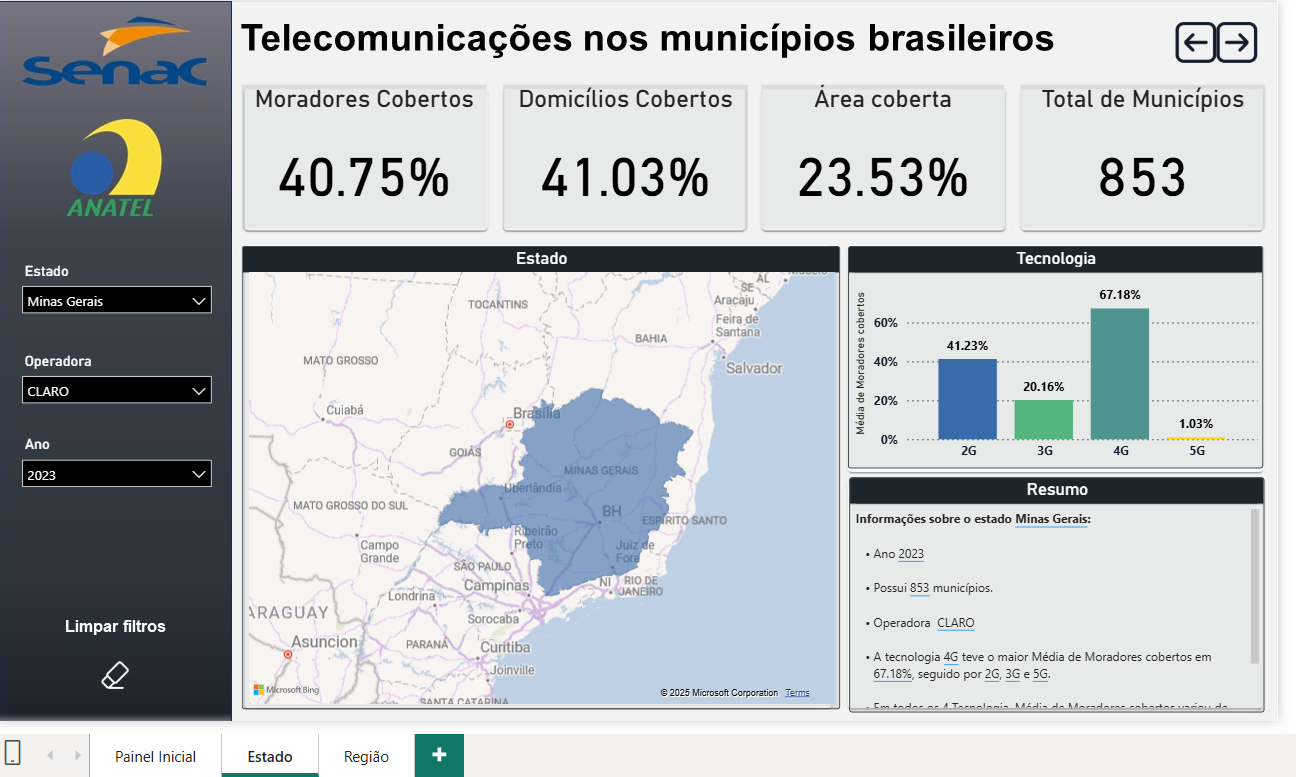

The page's visual inventory and layout, read from the dashboard file:
{"tool":"powerbi","page":{"name":"Estado","canvas":[1280,720],"ordinal":1},"visuals":[{"type":"slicer","fields":{"Values":["Estado.Estado"]},"box":[13.8,256.2,210,90],"z":0},{"type":"slicer","fields":{"Values":["Operadora.Operadora"]},"box":[13.3,346.7,210,91.7],"z":1000},{"type":"card","title":"Moradores Cobertos","fields":{"Values":["Avg(Fato.% Moradores cobertos)"]},"box":[243.8,83.8,245,143.8],"z":2000},{"type":"filledMap","fields":{"Category":["Estado.Estado"]},"box":[243.3,245,598.3,463.3],"z":3000},{"type":"clusteredColumnChart","title":"Tecnologia","fields":{"Category":["Tecnologia.Tecnologia"],"Y":["Avg(Fato.Moradores cobertos)"]},"box":[850,245,415,222.5],"z":4000},{"type":"slicer","fields":{"Values":["Calendario.Date.Variation.Hierarquia de datas.Ano"]},"box":[13.8,430,210,92.5],"z":5000},{"type":"card","title":"Domicílios Cobertos","fields":{"Values":["Avg(Fato.Domicílios cobertos)"]},"box":[505,83.8,245,143.8],"z":6000},{"type":"image","box":[12.7,653.2,208.2,41.3],"z":7000},{"type":"image","box":[1211.1,15.9,55.6,50.9],"z":8000},{"type":"image","box":[1168.2,15.9,58.8,50.9],"z":9000},{"type":"card","title":"Área coberta","fields":{"Values":["Avg(Fato.% Área coberta)"]},"box":[763.8,83.8,242.5,143.8],"z":10000},{"type":"textbox","title":"Resumo","box":[851.7,476.7,415,235],"z":11000},{"type":"card","title":"Total de Municípios ","fields":{"Values":["Median(Fato.TotalMunicípiosEstado)"]},"box":[1022.5,83.8,245,143.8],"z":12000}]}

Visuals, with their boxes on the page's 1280x720 design canvas (x1, y1, x2, y2). These are canvas units, not pixel positions in the 1296x777 screenshot, which may show the page scaled, cropped or inside an application window:
slicer - Estado.Estado: bbox=[14, 256, 224, 346]
slicer - Operadora.Operadora: bbox=[13, 347, 223, 438]
"Moradores Cobertos" card: bbox=[244, 84, 489, 228]
filledMap - Estado.Estado: bbox=[243, 245, 842, 708]
"Tecnologia" clusteredColumnChart: bbox=[850, 245, 1265, 468]
slicer - Calendario.Date.Variation.Hierarquia de datas.Ano: bbox=[14, 430, 224, 522]
"Domicílios Cobertos" card: bbox=[505, 84, 750, 228]
image: bbox=[13, 653, 221, 694]
image: bbox=[1211, 16, 1267, 67]
image: bbox=[1168, 16, 1227, 67]
"Área coberta" card: bbox=[764, 84, 1006, 228]
"Resumo" textbox: bbox=[852, 477, 1267, 712]
"Total de Municípios " card: bbox=[1022, 84, 1268, 228]
